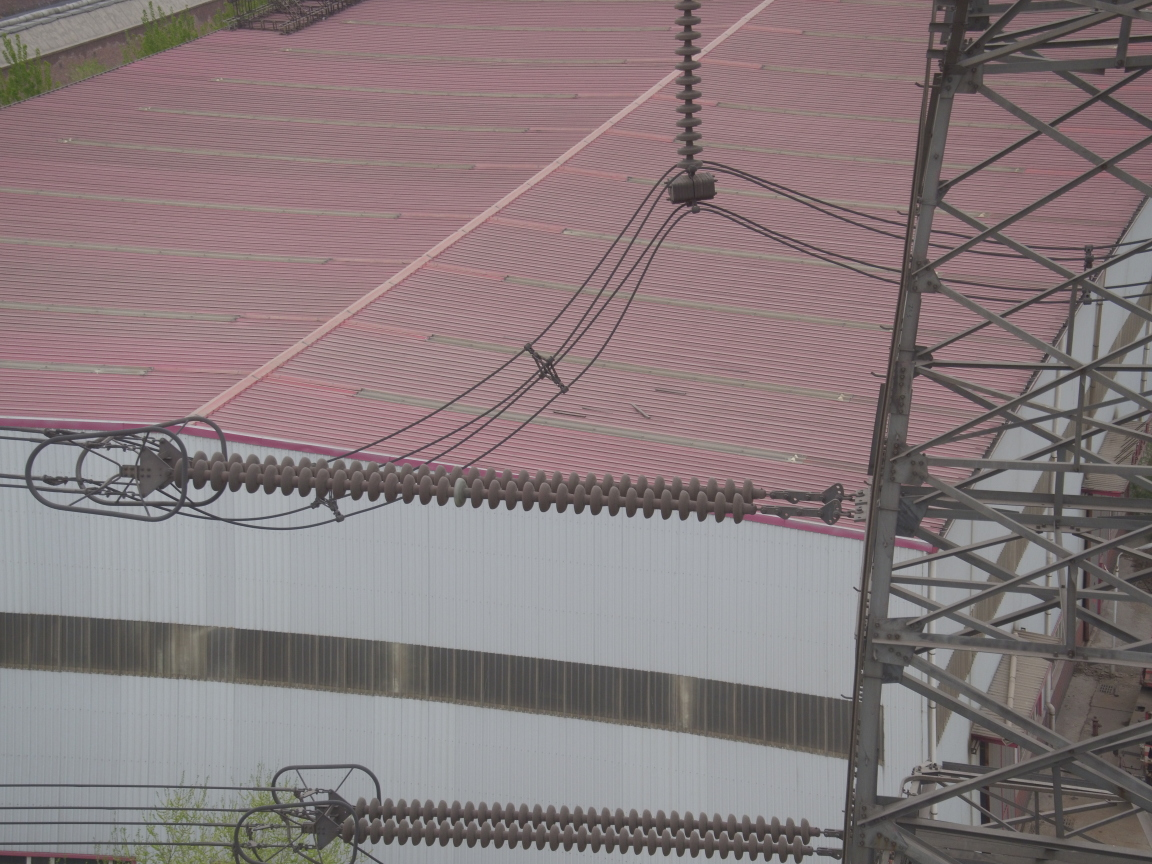insulator: (155, 444, 814, 528), (333, 795, 834, 861)
